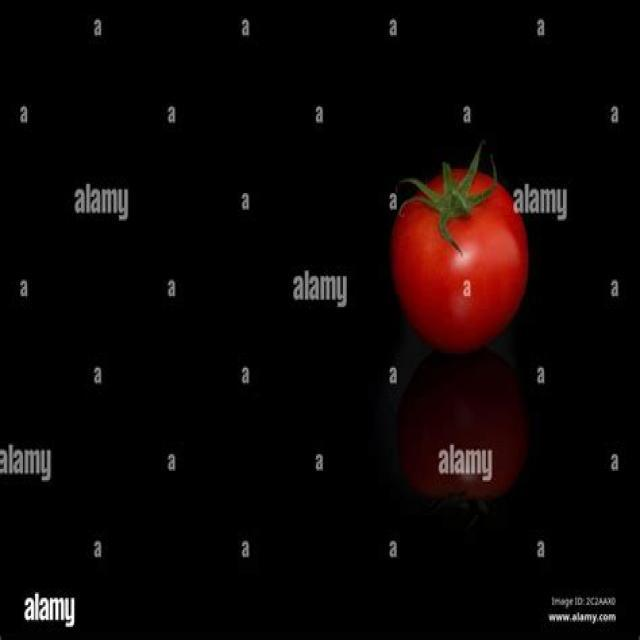Tomato: (391, 167, 531, 354)
